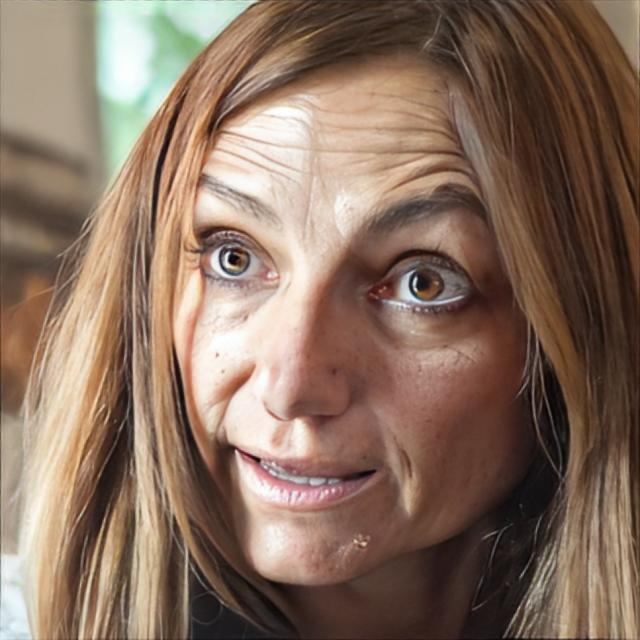surprise: (169, 37, 542, 587)
